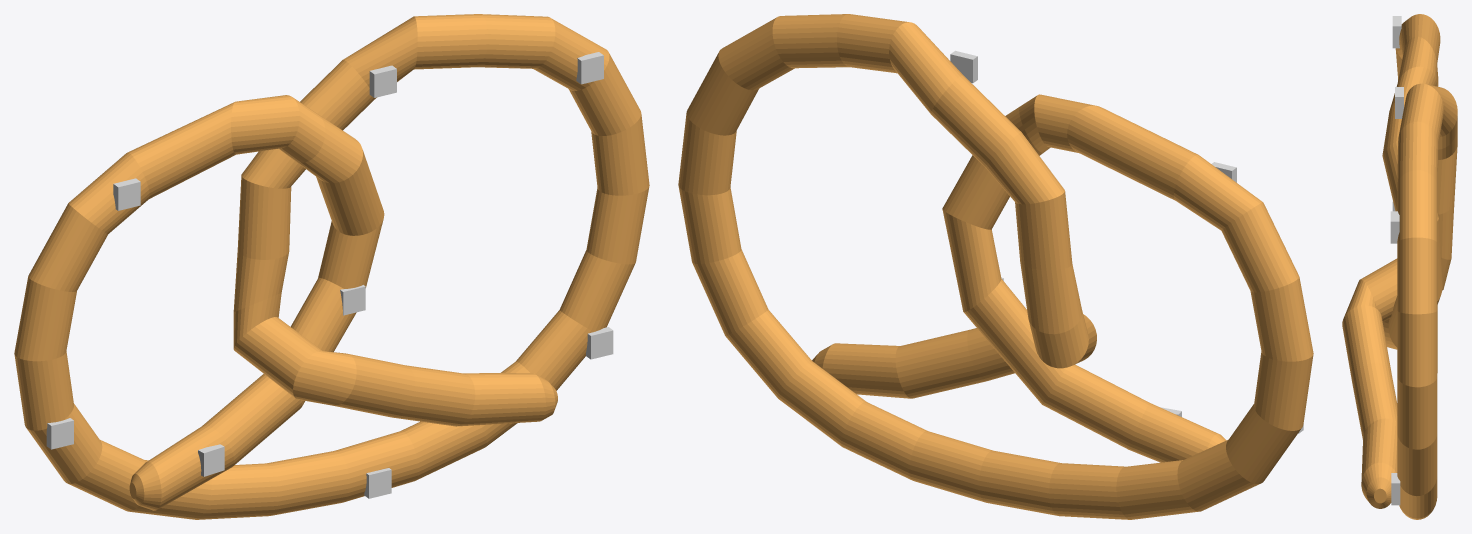
File: pretzel.glb
3 renders of one model, left to right at view 1: azimuth 30°, elevation 25°; view 2: azimuth 150°, elevation 25°; view 3: azimuth 270°, elevation 25°, orthographic. The views are drawn at different scales.
Parts seen in each view (by area): view 1: Cube; view 2: Cube; view 3: Cube.
Boxes of the visible parts, left/top/right/bottom form: Cube: left=14, top=14, right=649, bottom=519; Cube: left=678, top=14, right=1313, bottom=519; Cube: left=1342, top=14, right=1457, bottom=519.
Size of the model in its own units: 0.5486 by 0.3837 by 0.0941.
